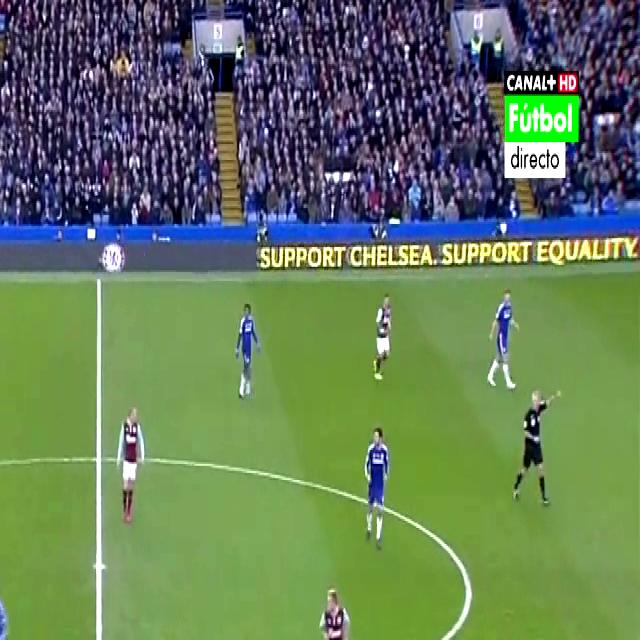referee: (509, 377, 564, 516)
soccer-player: (353, 415, 391, 557), (484, 275, 526, 397), (112, 399, 149, 525), (228, 302, 266, 411), (370, 290, 400, 390), (312, 579, 357, 640), (0, 569, 18, 640)
